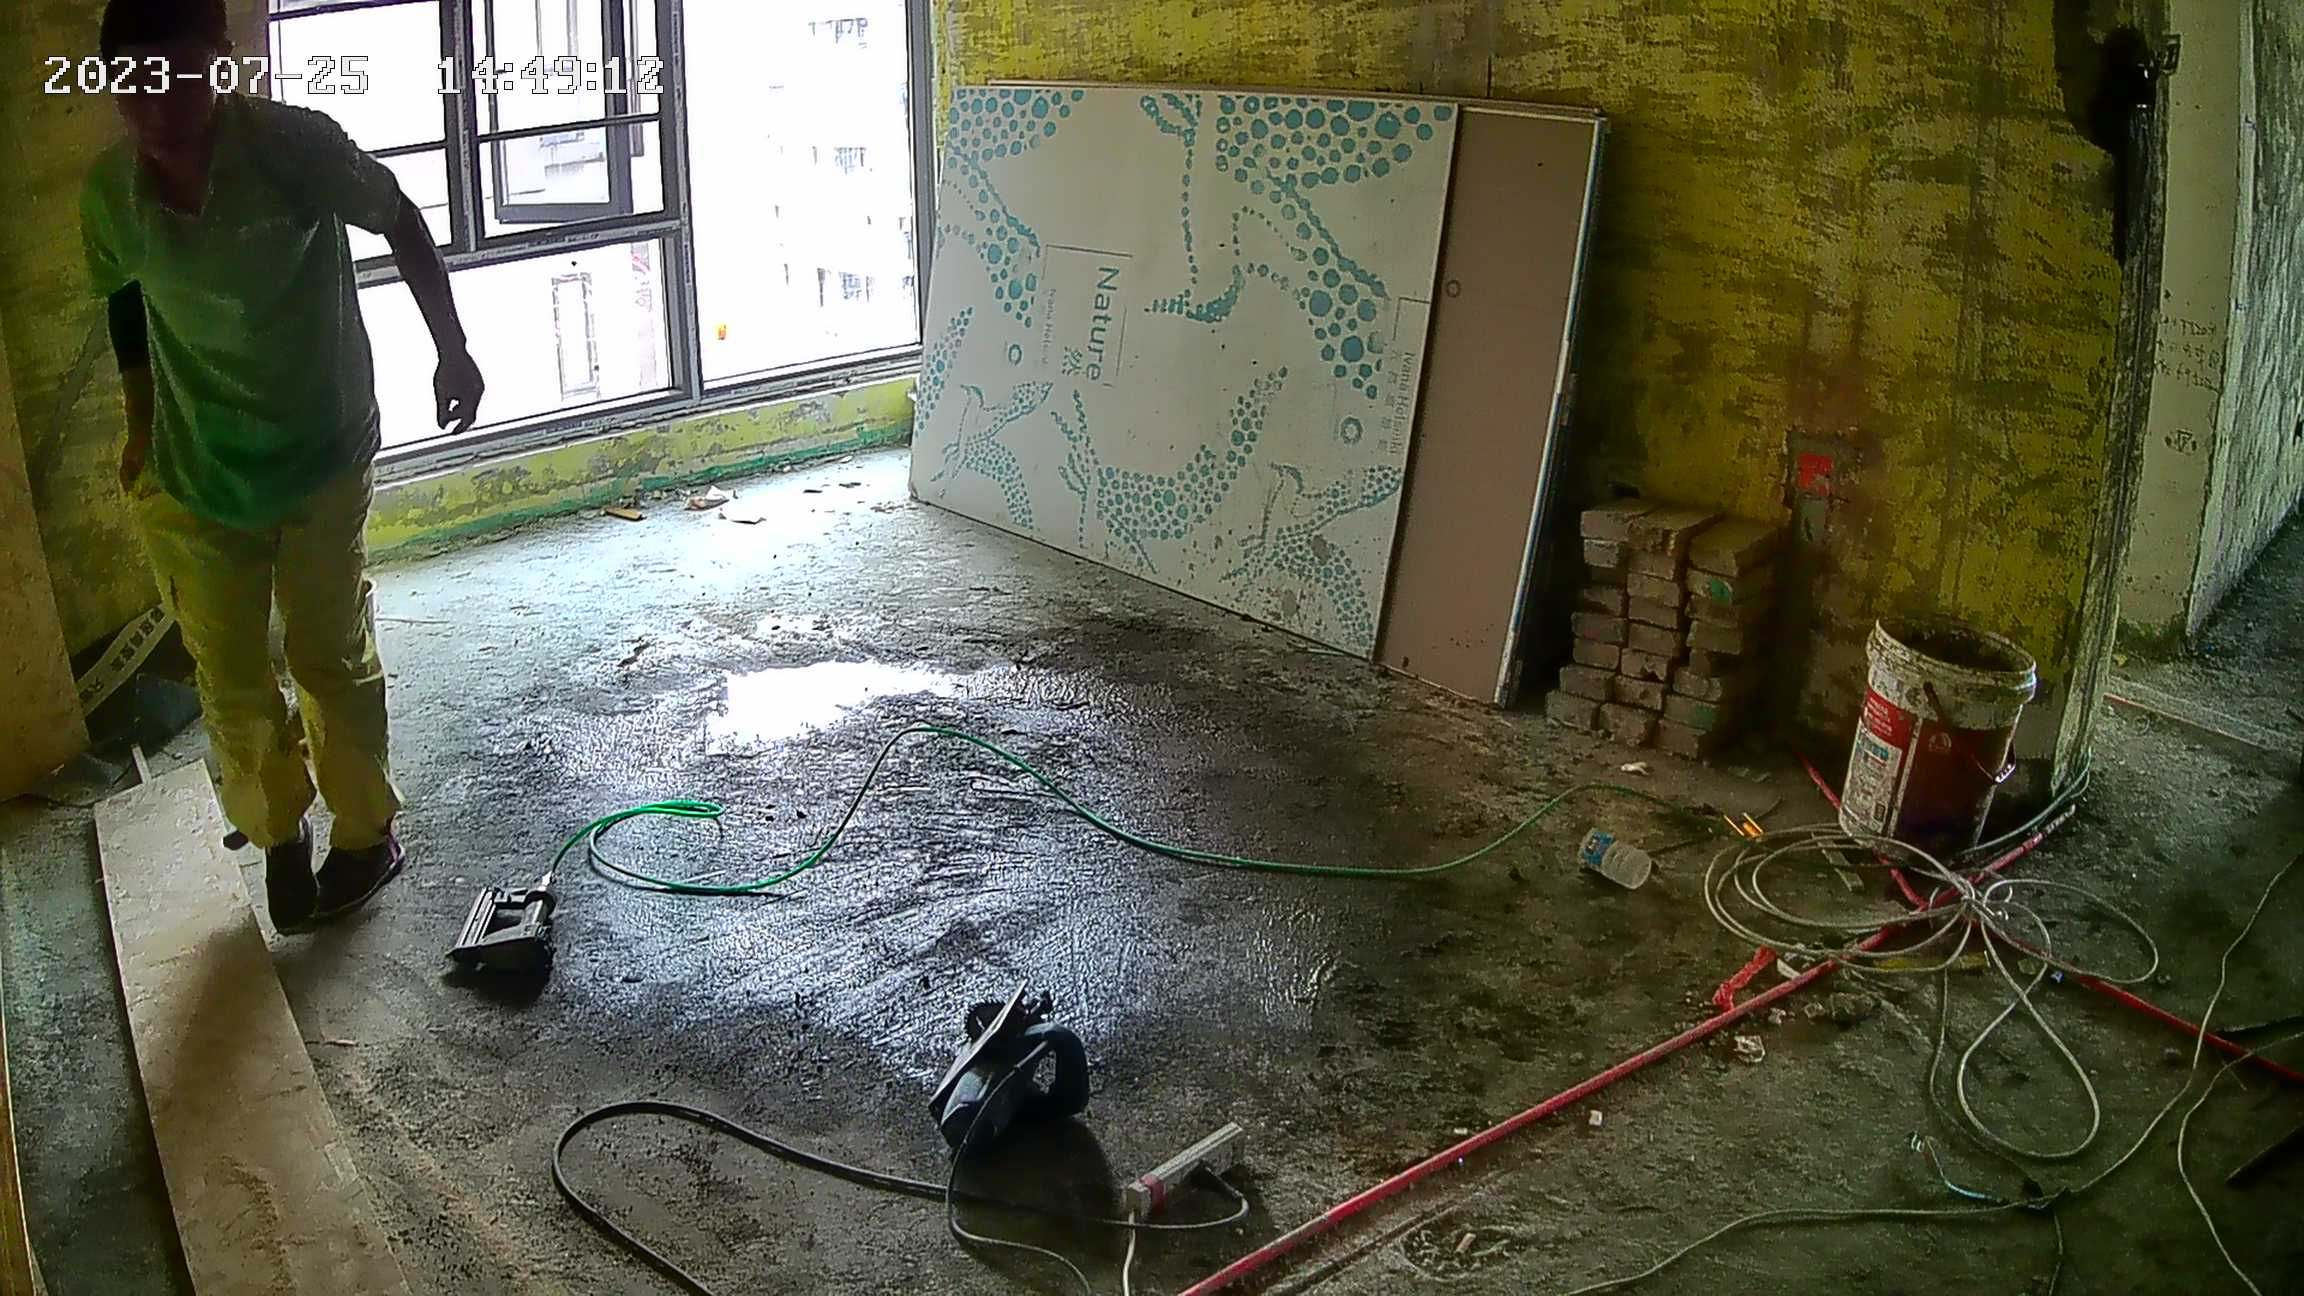people: (69, 4, 485, 945)
window: (278, 1, 924, 450)
